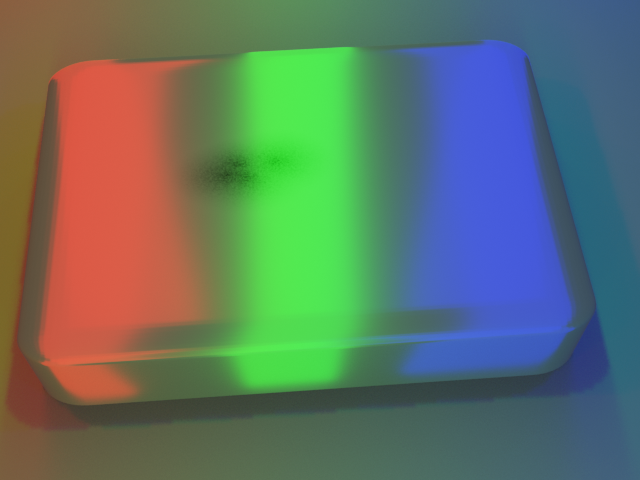stain: (135, 100, 339, 212)
